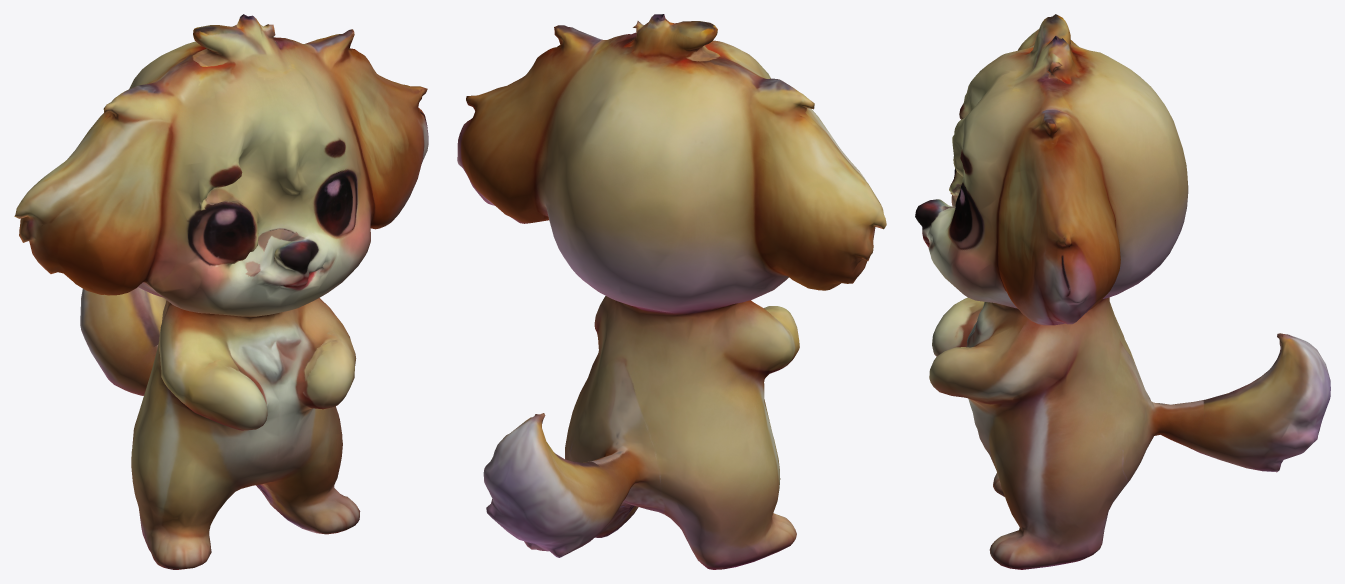
Rendered from 2_alice.glb.
3 views of the same model, side by side, from view 1: azimuth 30°, elevation 25°; view 2: azimuth 150°, elevation 25°; view 3: azimuth 270°, elevation 25° (orthographic). The views are drawn at different scales.
Bounding box in the file's own units: 0.9983 × 1.2 × 0.8987.
1 material, 1 textured.
